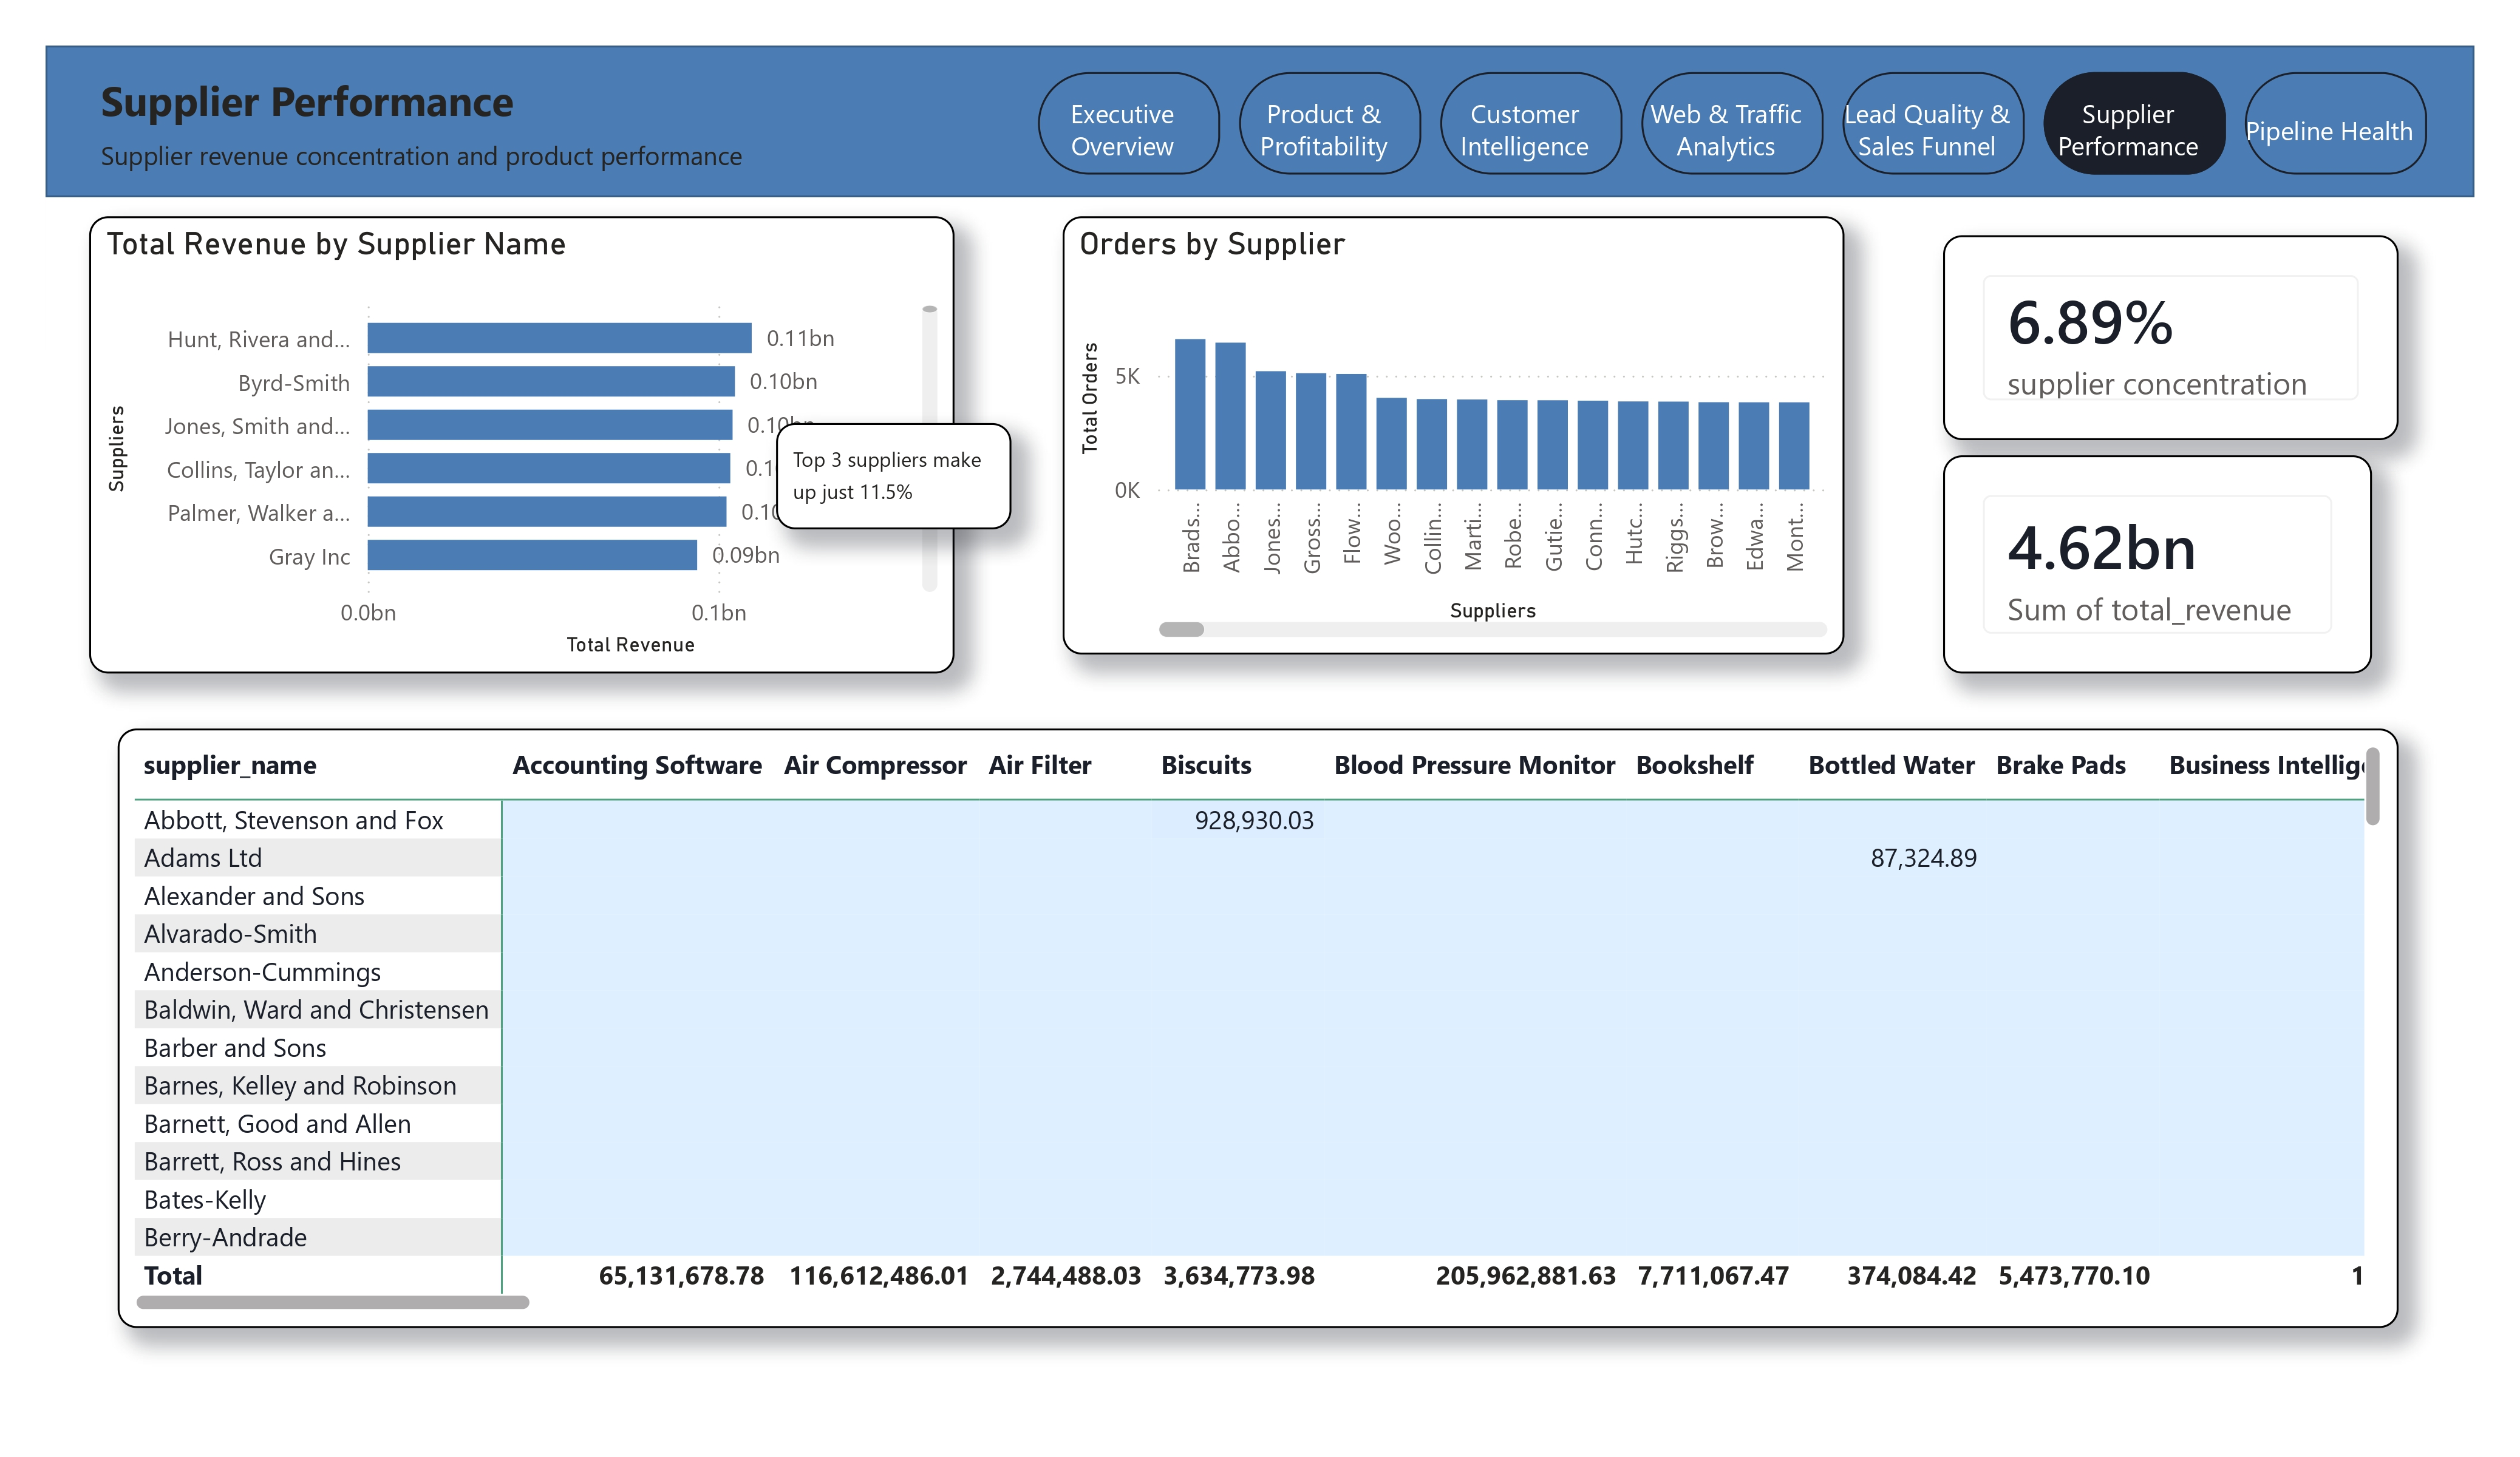

The dashboard page shown, as its layout file describes it:
{"tool":"powerbi","page":{"name":"Supplier Performance","canvas":[1280,720],"ordinal":5},"visuals":[{"type":"shape","box":[0,0,1280,80],"z":0},{"type":"barChart","title":"Total Revenue by Supplier Name","fields":{"Category":["marts vw_supplier_product_performance.supplier_name"],"Y":["Sum(marts vw_supplier_product_performance.total_revenue)"]},"box":[23.3,89.5,455.8,241.9],"z":1000},{"type":"cardVisual","fields":{"Data":["Sum(marts vw_supplier_revenue.revenue_share_pct)"]},"box":[1000,100,239.7,107.7],"z":2000},{"type":"pivotTable","title":"Supplier Product Matrix","fields":{"Columns":["marts vw_supplier_product_performance.product_name"],"Rows":["marts vw_supplier_product_performance.supplier_name"],"Values":["Sum(marts vw_supplier_product_performance.total_revenue)"]},"box":[38.4,360.5,1201.2,315.1],"z":3000},{"type":"cardVisual","fields":{"Data":["Sum(marts vw_supplier_revenue.total_revenue)"]},"box":[1000,216.3,225.6,115.1],"z":4000},{"type":"clusteredColumnChart","title":"Orders by Supplier","fields":{"Category":["marts vw_supplier_product_performance.supplier_name"],"Y":["Sum(marts vw_supplier_product_performance.total_orders)"]},"box":[536,89.5,411.6,231.4],"z":5000},{"type":"textbox","box":[24.3,9.5,550.2,52.7],"z":6000},{"type":"textbox","box":[24.4,44.2,550,36],"z":7000},{"type":"pageNavigator","box":[523.2,13.5,736.8,54.1],"z":8000},{"type":"textbox","box":[384.9,198.8,124.4,55.8],"z":13000}]}

Visuals, with their boxes on the page's 1280x720 design canvas (x1, y1, x2, y2). These are canvas units, not pixel positions in the 2520x1457 screenshot, which may show the page scaled, cropped or inside an application window:
shape: left=0, top=0, right=1280, bottom=80
"Total Revenue by Supplier Name" barChart: left=23, top=90, right=479, bottom=331
cardVisual - Sum(marts vw_supplier_revenue.revenue_share_pct): left=1000, top=100, right=1240, bottom=208
"Supplier Product Matrix" pivotTable: left=38, top=360, right=1240, bottom=676
cardVisual - Sum(marts vw_supplier_revenue.total_revenue): left=1000, top=216, right=1226, bottom=331
"Orders by Supplier" clusteredColumnChart: left=536, top=90, right=948, bottom=321
textbox: left=24, top=10, right=574, bottom=62
textbox: left=24, top=44, right=574, bottom=80
pageNavigator: left=523, top=14, right=1260, bottom=68
textbox: left=385, top=199, right=509, bottom=255
